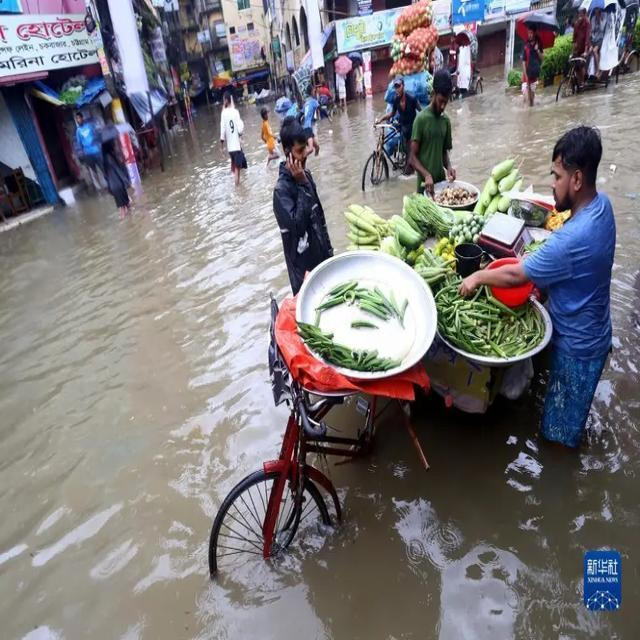Person-RiskLevel2: (482, 113, 616, 460), (263, 114, 359, 317), (406, 60, 475, 203), (202, 89, 254, 193), (62, 106, 113, 194), (378, 75, 427, 164)
